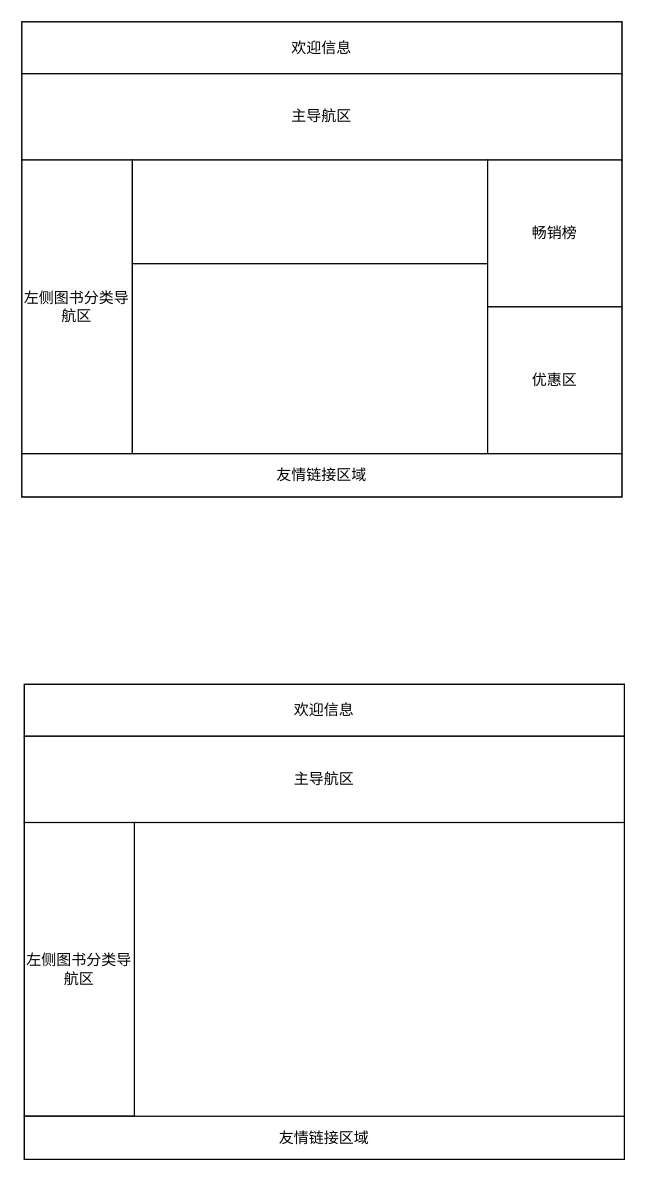
This 646x1181 diagram has some shape labels left out. Each missing label, with the box of its shape:
图书展示: (133, 821, 624, 1122)
广告轮番图: (131, 159, 488, 264)
新书速递: (131, 262, 488, 454)
